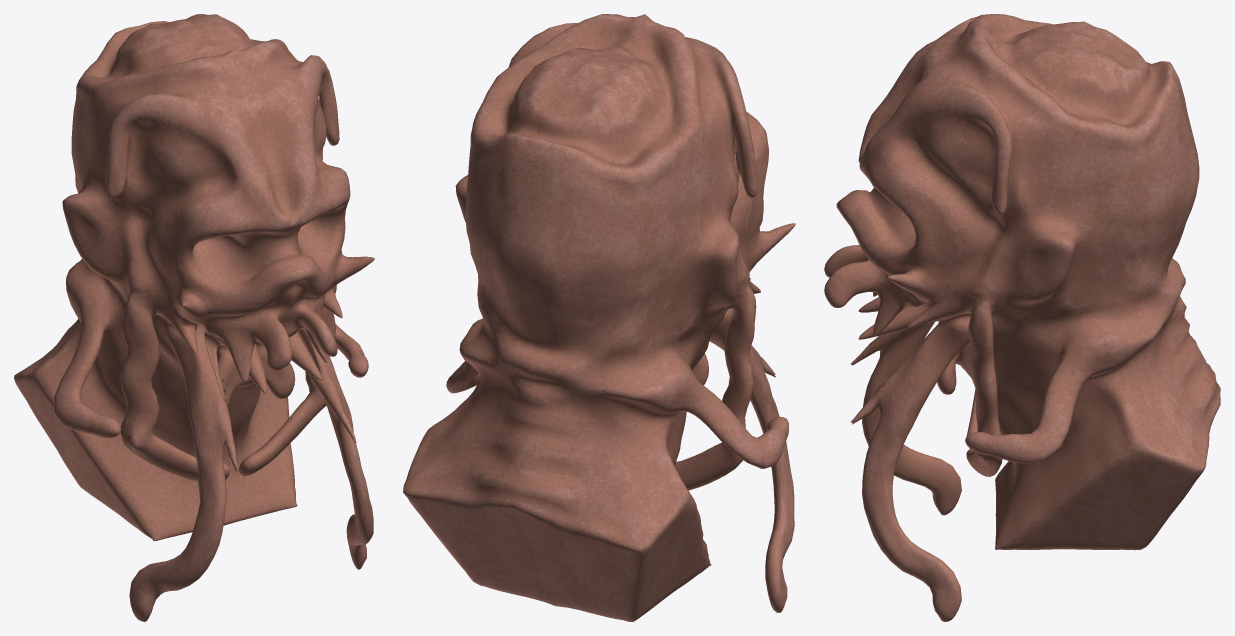
3 views of the same model, side by side, from view 1: azimuth 30°, elevation 25°; view 2: azimuth 150°, elevation 25°; view 3: azimuth 270°, elevation 25° (orthographic). The views are drawn at different scales.
Parts seen in each view (by area): view 1: dead_space_lopoly:Group42108; view 2: dead_space_lopoly:Group42108; view 3: dead_space_lopoly:Group42108.
Part boxes in pixels (<box>): dead_space_lopoly:Group42108: <box>14,14,374,621</box>; dead_space_lopoly:Group42108: <box>403,14,795,621</box>; dead_space_lopoly:Group42108: <box>824,14,1220,621</box>.
Bounding box in the file's own units: 1.98 × 3.43 × 2.27.
1 material, 1 textured.
